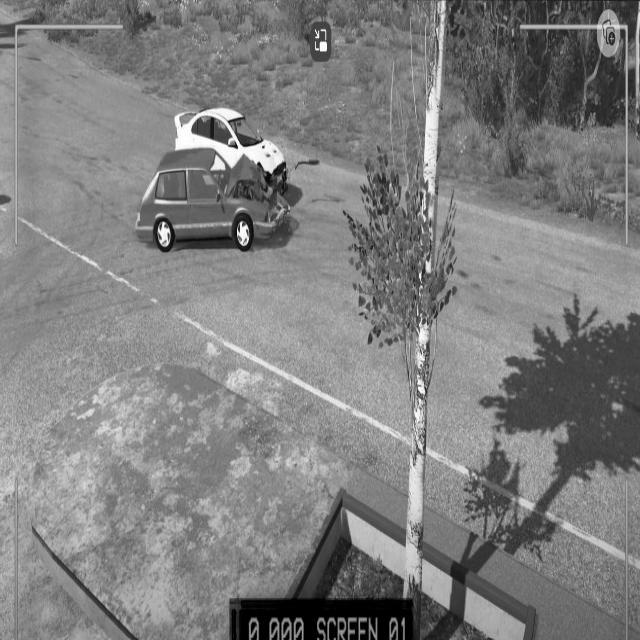accident: (133, 99, 293, 259)
